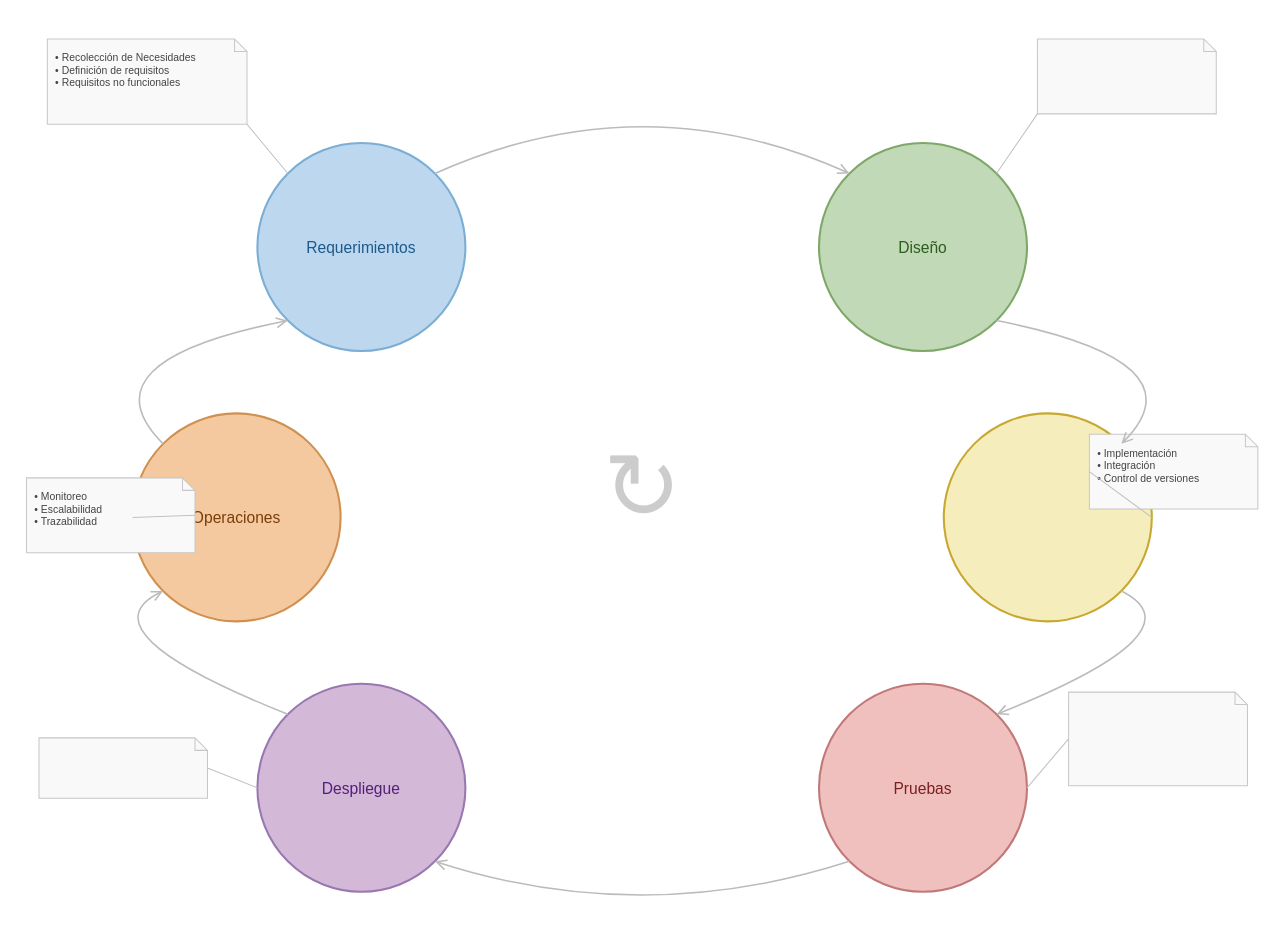
Some shapes in this 1283 by 951 pixel diagram are drawn without their labels. Each missing label, with the box of its shape:
Desarrollo: (942, 412, 1152, 622)
• Arquitectura • Base de Datos • Flujos: (1036, 38, 1216, 114)
• Infraestructura • CI/CD: (38, 737, 207, 798)
• Pruebas unitarias • Pruebas de integración • Pruebas E2E • Pruebas de usuario: (1068, 691, 1247, 786)
